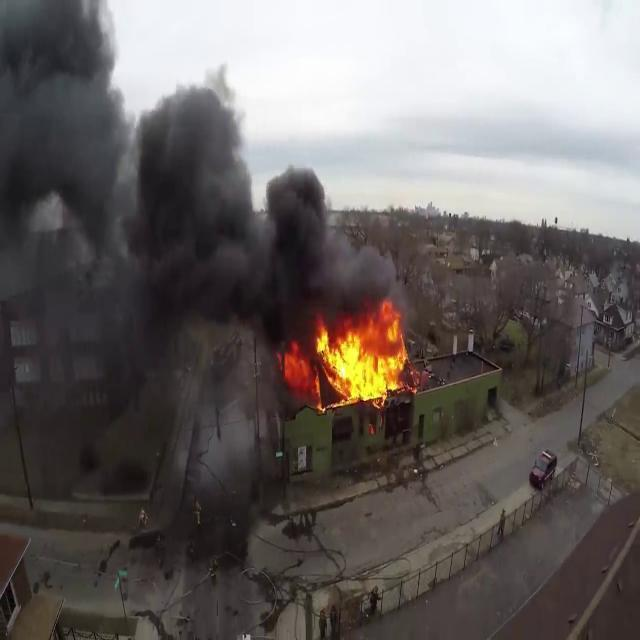Fire: (303, 302, 416, 408)
Smoke: (0, 2, 404, 346)
